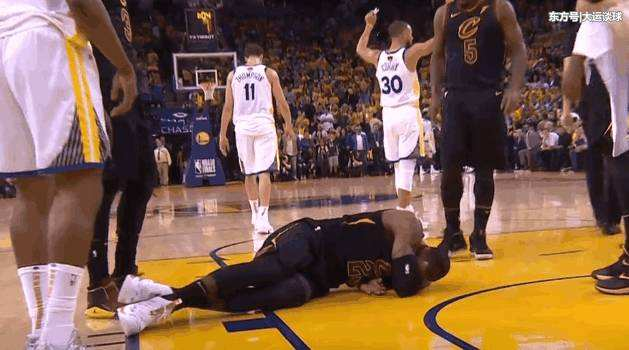10+: (6, 1, 629, 345)
down: (112, 200, 451, 341)
